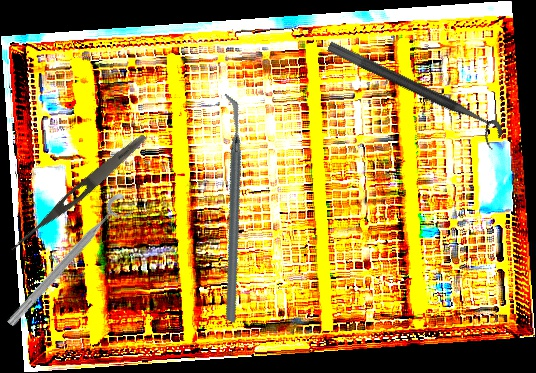Chopper: (138, 91, 322, 324)
Dressing Forceps: (7, 130, 150, 257)
Fixation Ring: (319, 39, 507, 152), (3, 190, 138, 337)
